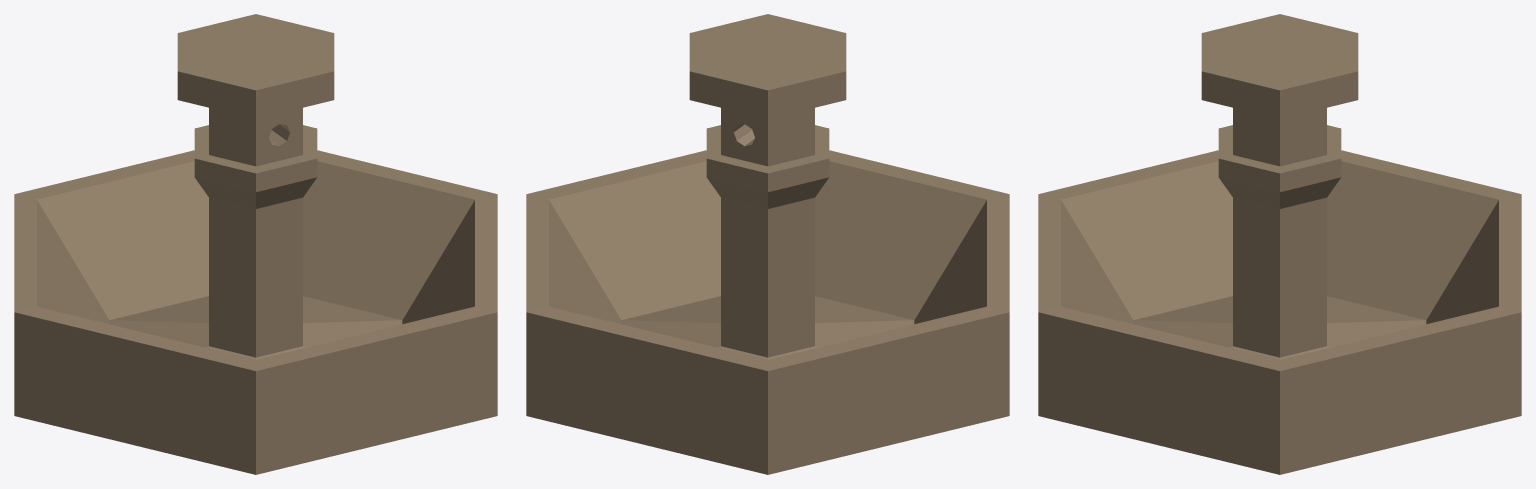
The model's file is Fontaine.fbx.
3 views of the same model, side by side, from view 1: azimuth 30°, elevation 25°; view 2: azimuth 150°, elevation 25°; view 3: azimuth 270°, elevation 25° (orthographic).
Visible parts, largest first — view 1: Fontaine; view 2: Fontaine; view 3: Fontaine.
Part boxes in pixels (x1,y1,x2,y2): Fontaine: (14, 14, 497, 474); Fontaine: (526, 14, 1009, 474); Fontaine: (1038, 14, 1521, 474).
Bounding box in the file's own units: 1028 × 619 × 890.
